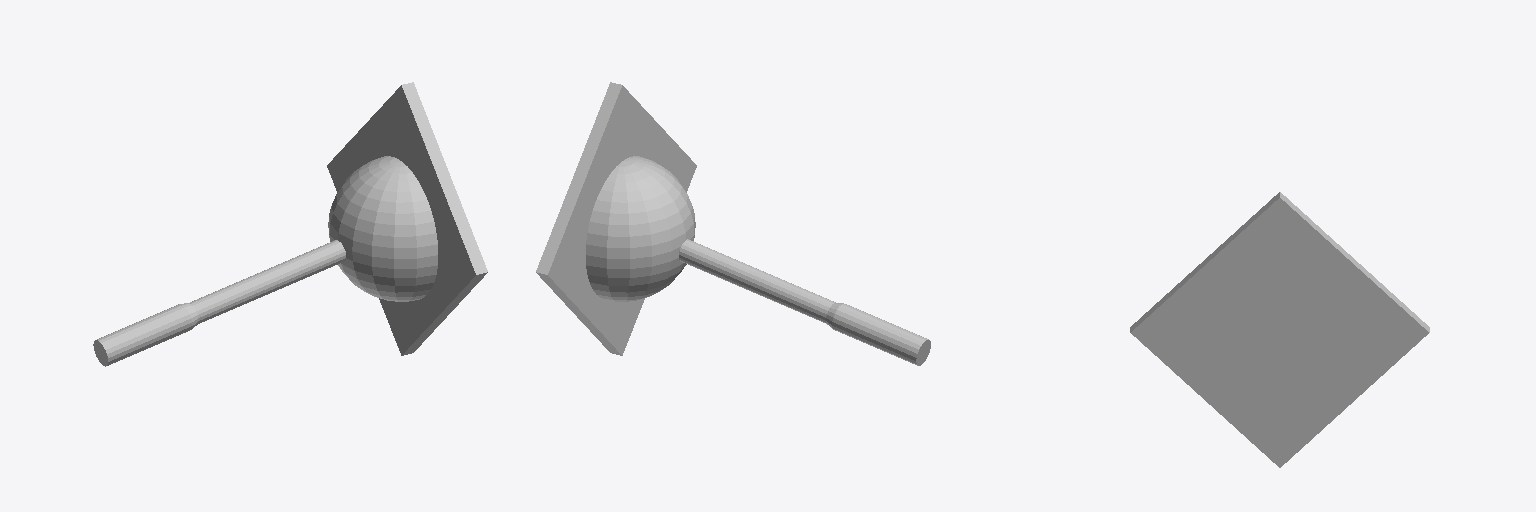
The model's file is Turret.obj.
3 renders of one model, left to right at view 1: azimuth 30°, elevation 25°; view 2: azimuth 150°, elevation 25°; view 3: azimuth 270°, elevation 25°, orthographic.
Parts seen in each view (by area): view 1: pSphere2; view 2: pSphere2; view 3: pSphere2.
Part boxes in pixels (x1,y1,x2,y2): pSphere2: (93,82,487,366); pSphere2: (536,82,930,365); pSphere2: (1130,192,1429,467).
Bounding box in the file's own units: 10.33 × 8.49 × 8.49.